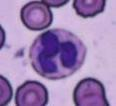N: (30, 28, 86, 78)
